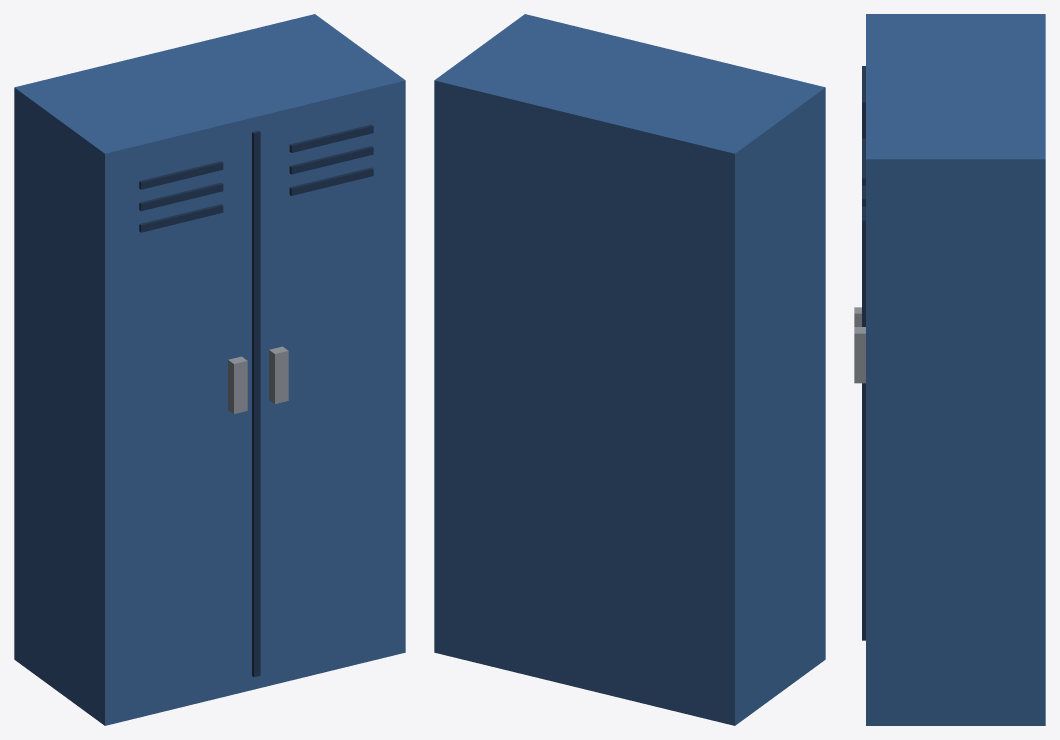
Rendered from esc-armario.gltf.
3 renders of one model, left to right at view 1: azimuth 30°, elevation 25°; view 2: azimuth 150°, elevation 25°; view 3: azimuth 270°, elevation 25°, orthographic.
Visible parts, largest first — view 1: esc-armario; view 2: esc-armario; view 3: esc-armario.
Part boxes in pixels (left/top/right/bottom): esc-armario: left=14, top=14, right=405, bottom=725; esc-armario: left=434, top=14, right=825, bottom=725; esc-armario: left=854, top=14, right=1045, bottom=725.
Size of the model in its own units: 0.88 by 1.6 by 0.49.
